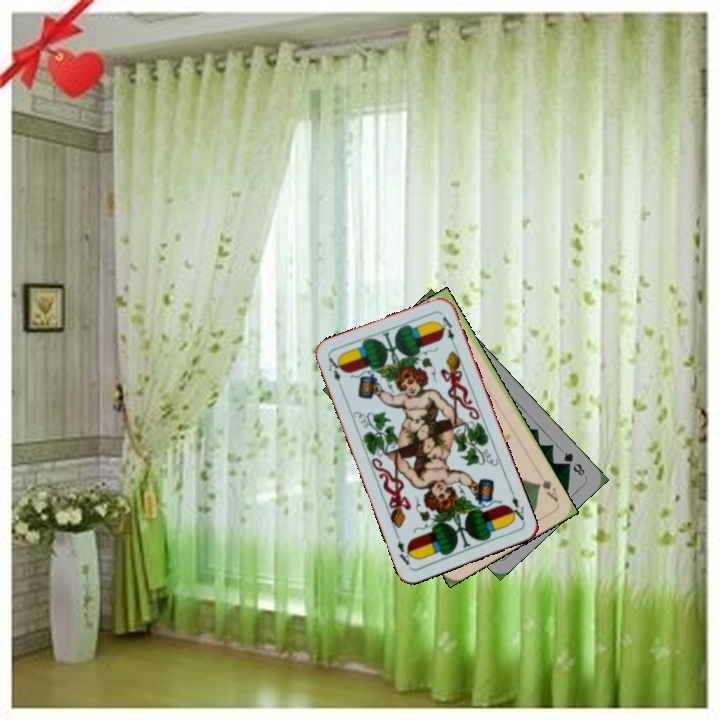EA: (324, 353, 345, 392), (504, 492, 527, 525)
G8: (559, 448, 588, 478)
GA: (534, 476, 561, 505)
